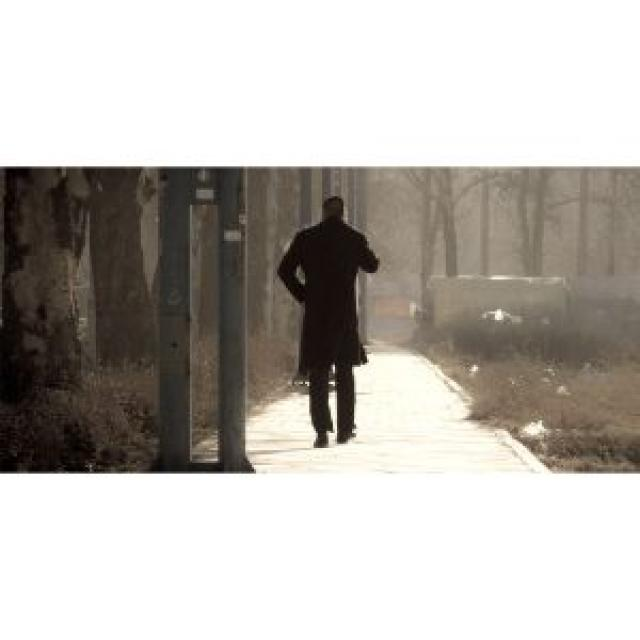nonfall: (274, 192, 408, 442)
